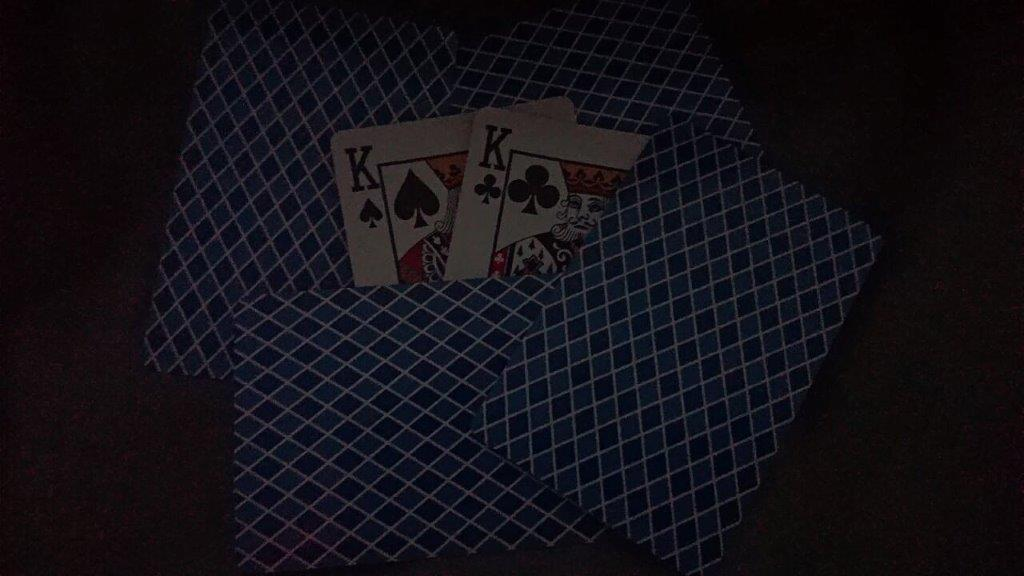BACK: (469, 109, 883, 576), (232, 279, 468, 576), (186, 1, 459, 112)
KC: (472, 116, 520, 213)
KS: (338, 132, 401, 237)
